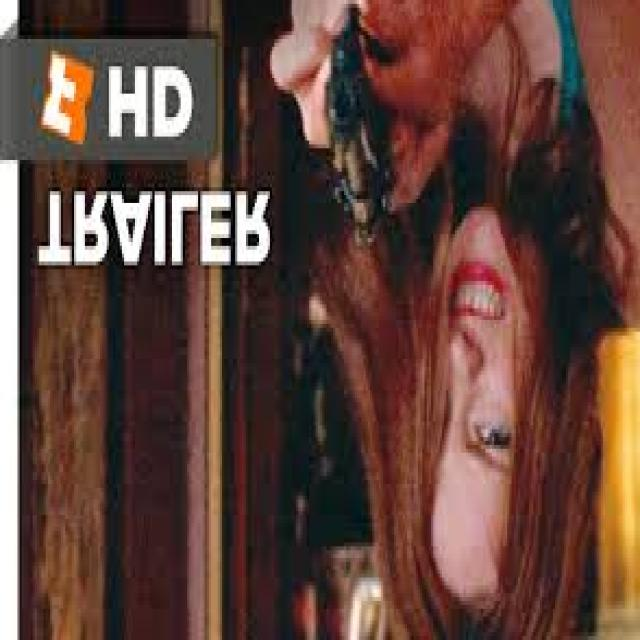gun: (318, 0, 407, 250)
